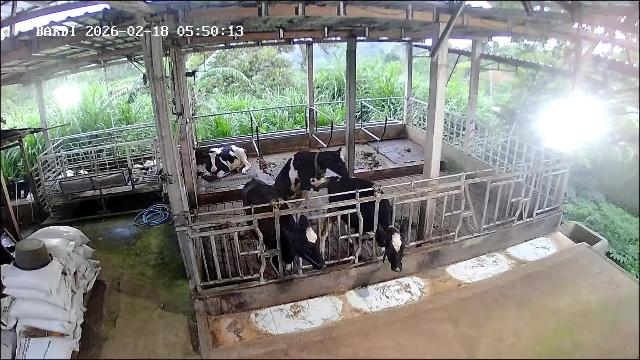mounting: (274, 149, 348, 218)
